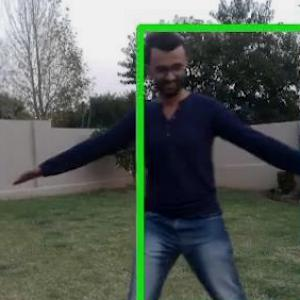land: (66, 37, 299, 299)
